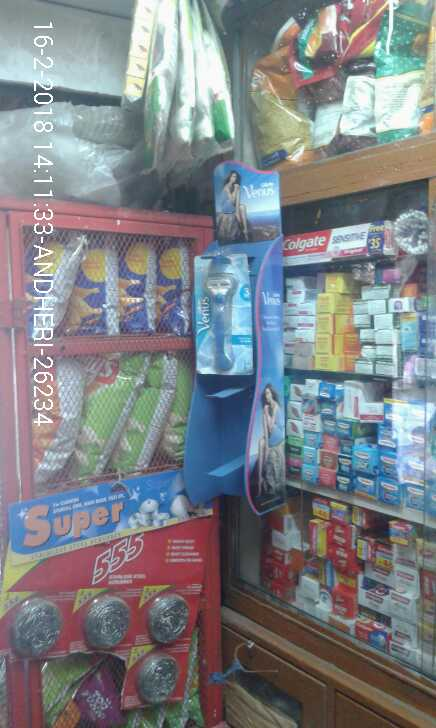beauty: (192, 255, 258, 377)
